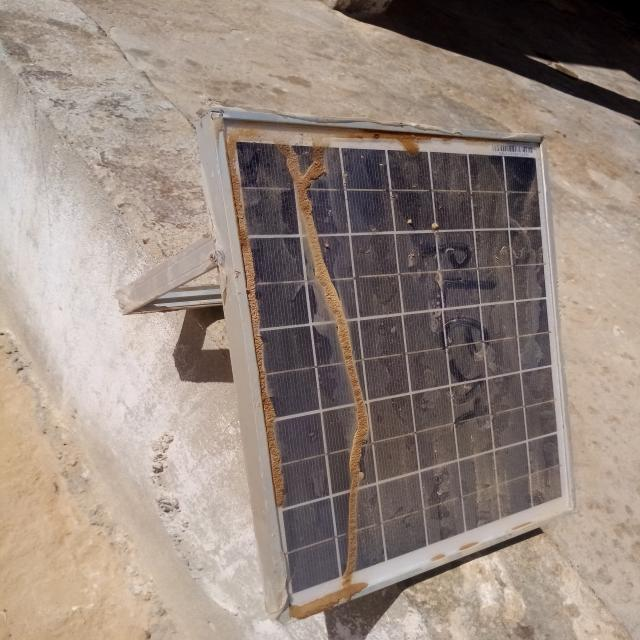faulty: (218, 115, 575, 621)
